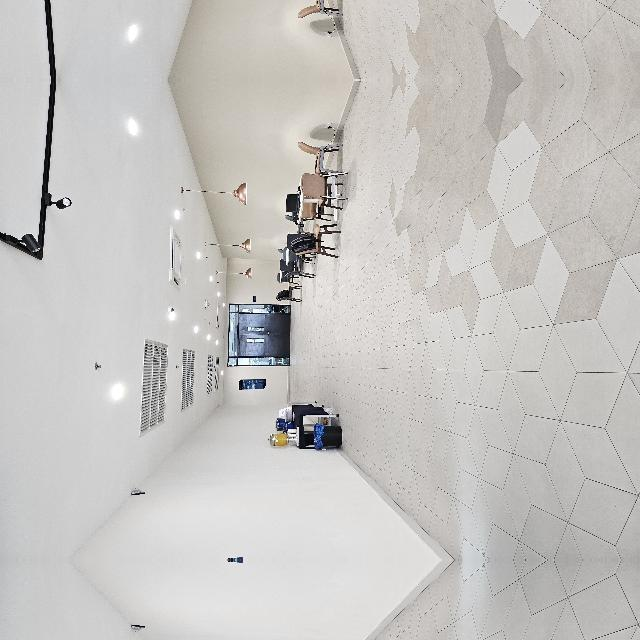obstacle: (306, 370, 422, 424), (106, 344, 158, 424)
